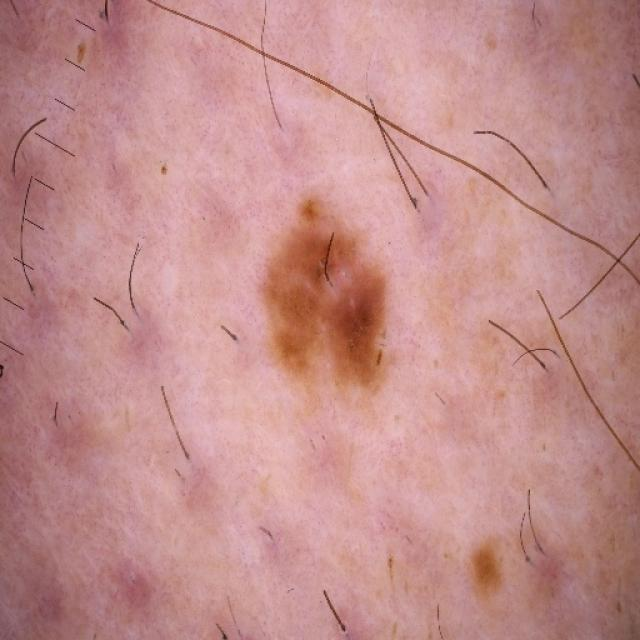Melanoma: (262, 199, 386, 382)
